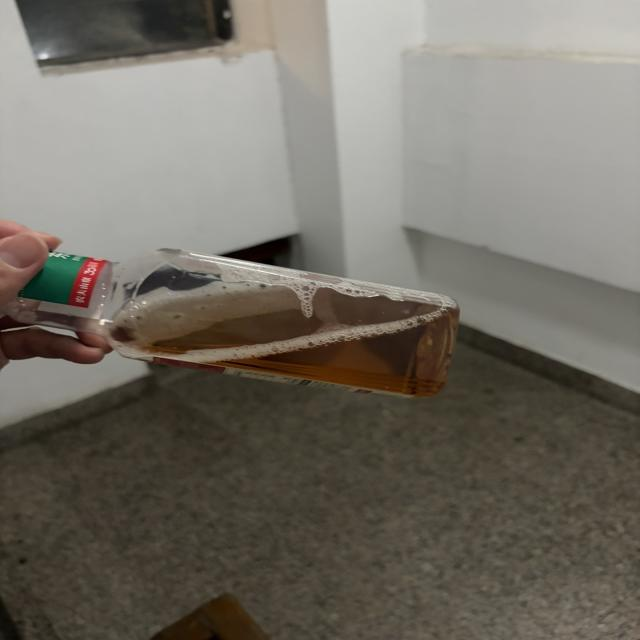medium: (2, 249, 458, 397)
